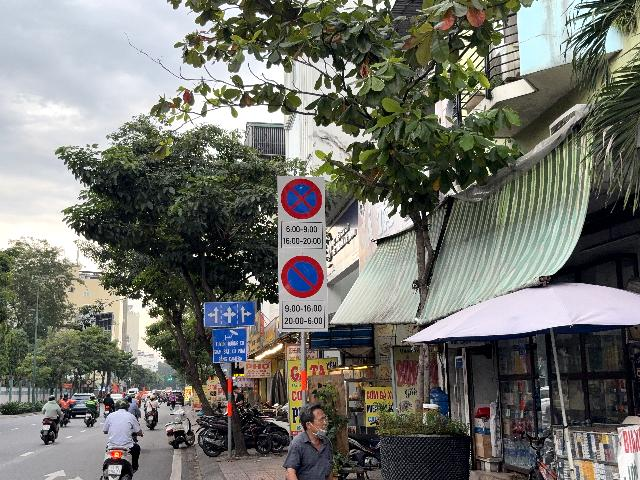cam-do-xe: (281, 255, 325, 298)
cam-dung-va-do-xe: (280, 178, 322, 219)
